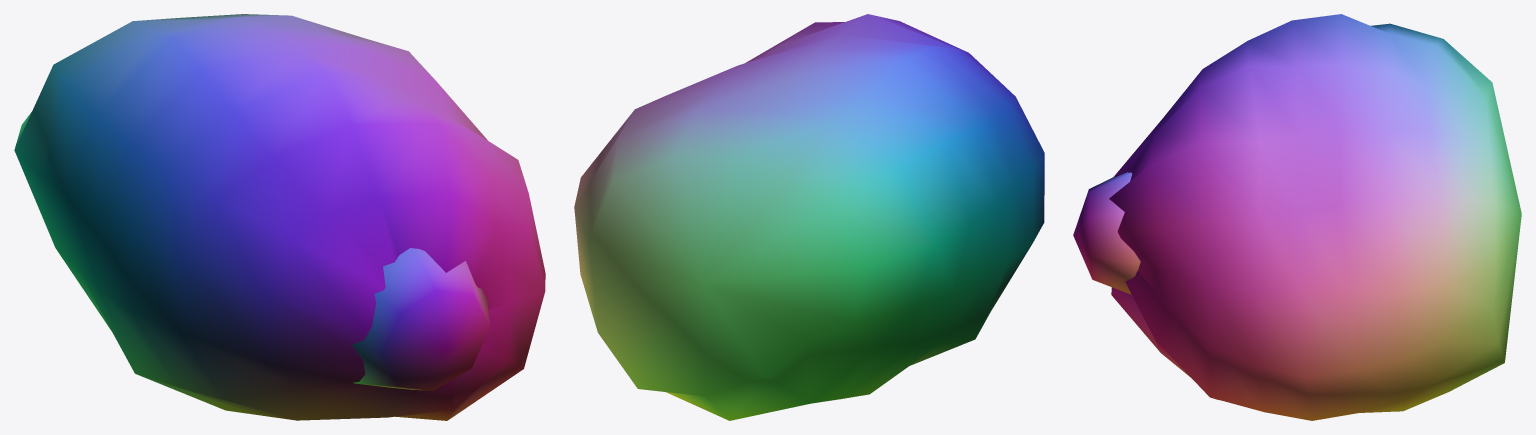
File: SM_Mon_Deserter_Att_LootSack.fbx
3 views of the same model, side by side, from view 1: azimuth 30°, elevation 25°; view 2: azimuth 150°, elevation 25°; view 3: azimuth 270°, elevation 25° (orthographic). The views are drawn at different scales.
Visible parts, largest first — view 1: SM_Mon_Deserter_Att_LootSack; view 2: SM_Mon_Deserter_Att_LootSack; view 3: SM_Mon_Deserter_Att_LootSack.
Boxes of the visible parts, x1,y1,x2,y2 form: SM_Mon_Deserter_Att_LootSack: [14, 14, 545, 420]; SM_Mon_Deserter_Att_LootSack: [574, 14, 1044, 420]; SM_Mon_Deserter_Att_LootSack: [1073, 14, 1521, 420].
Bounding box in the file's own units: 0.2036 × 0.171 × 0.2167.
